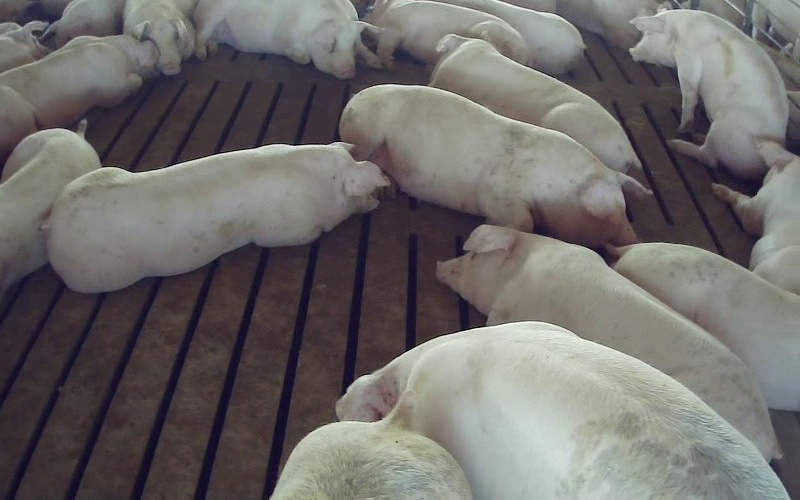pig: (437, 225, 780, 459), (45, 142, 389, 290), (340, 86, 648, 247), (609, 243, 799, 410), (429, 34, 640, 172), (630, 10, 787, 177), (0, 35, 158, 169), (271, 394, 471, 499), (0, 120, 100, 301), (193, 0, 380, 78), (712, 141, 799, 293), (366, 0, 530, 67), (436, 0, 584, 74), (123, 0, 194, 74)
